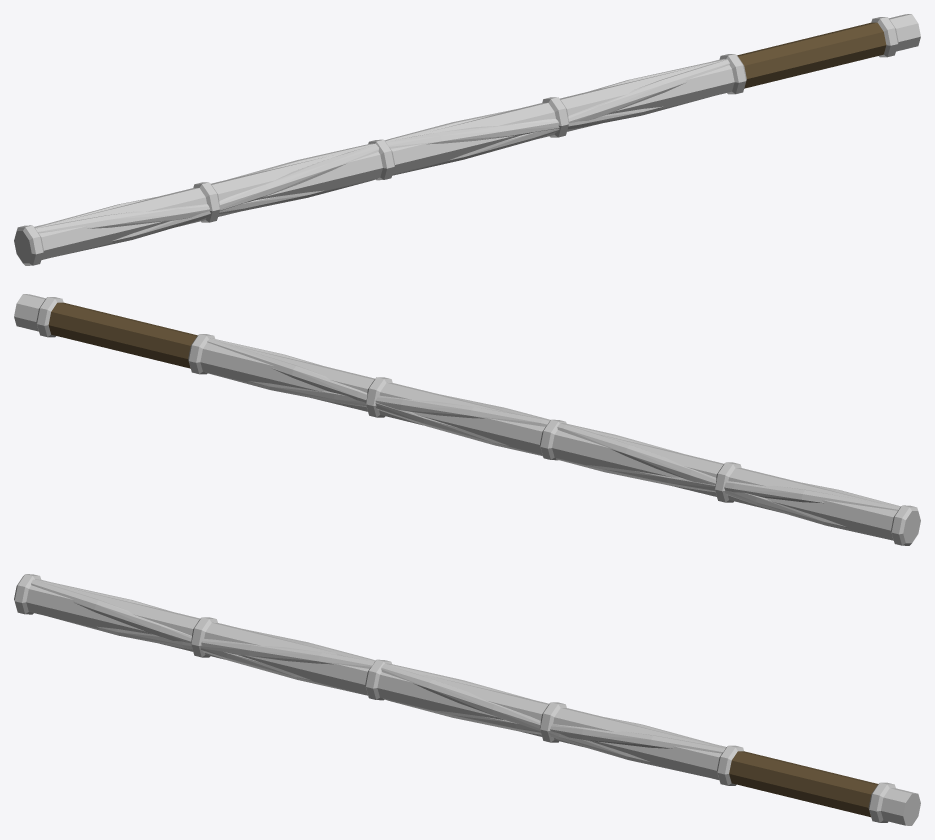
The model's file is ITMW_MAGESTAFF_NORMAL_2H_03.OBJ.
The picture shows the model from 3 angles, top to bottom: view 1: azimuth 30°, elevation 25°; view 2: azimuth 150°, elevation 25°; view 3: azimuth 330°, elevation 25°; orthographic projection.
Visible parts, largest first — view 1: ITMW_MAGESTAFF_NORMAL_2H_03; view 2: ITMW_MAGESTAFF_NORMAL_2H_03; view 3: ITMW_MAGESTAFF_NORMAL_2H_03.
Boxes of the visible parts, box(x1,y1,x2,y2) form: ITMW_MAGESTAFF_NORMAL_2H_03: box(14, 14, 920, 265); ITMW_MAGESTAFF_NORMAL_2H_03: box(14, 294, 920, 545); ITMW_MAGESTAFF_NORMAL_2H_03: box(14, 574, 920, 825).
Size of the model in its own units: 1.55 by 0.0646 by 0.0646.
